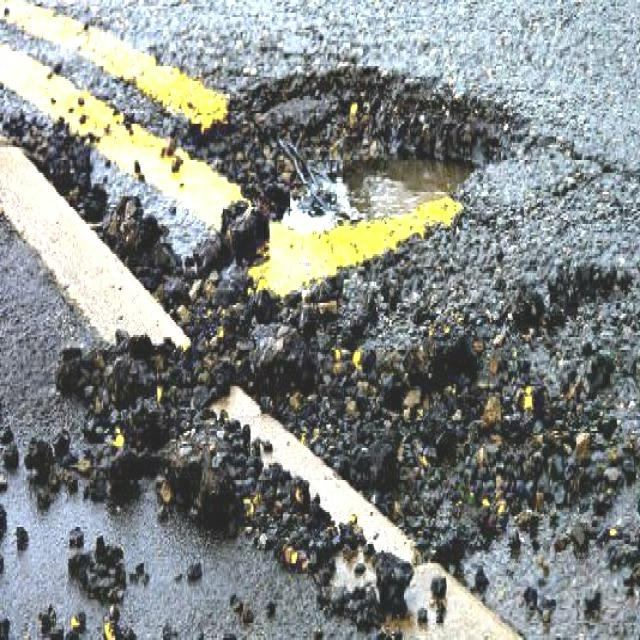Pothole: (182, 58, 531, 218)
